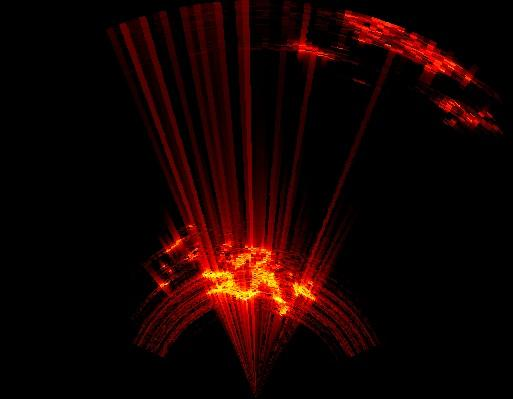shipwreck: (346, 15, 469, 77), (209, 250, 312, 301), (205, 275, 278, 303), (442, 98, 491, 123), (293, 40, 326, 57)
